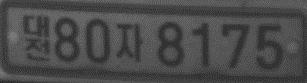0: (84, 18, 110, 63)
1: (190, 22, 212, 67)
5: (255, 24, 284, 70)
7: (221, 23, 250, 69)
8: (156, 21, 185, 66), (53, 17, 79, 62)
경남_V: (22, 14, 51, 62)
자: (116, 22, 144, 61)
